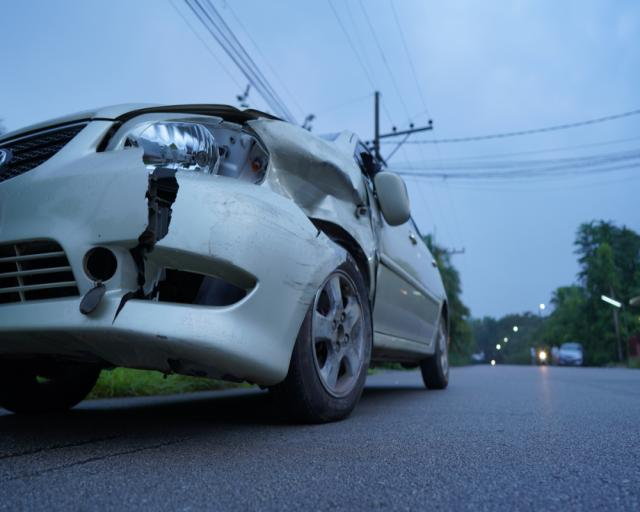crack: (111, 170, 180, 327), (316, 229, 322, 239)
dent: (270, 142, 376, 256)
lamp broken: (108, 110, 264, 185)
scratch: (203, 185, 340, 306)
